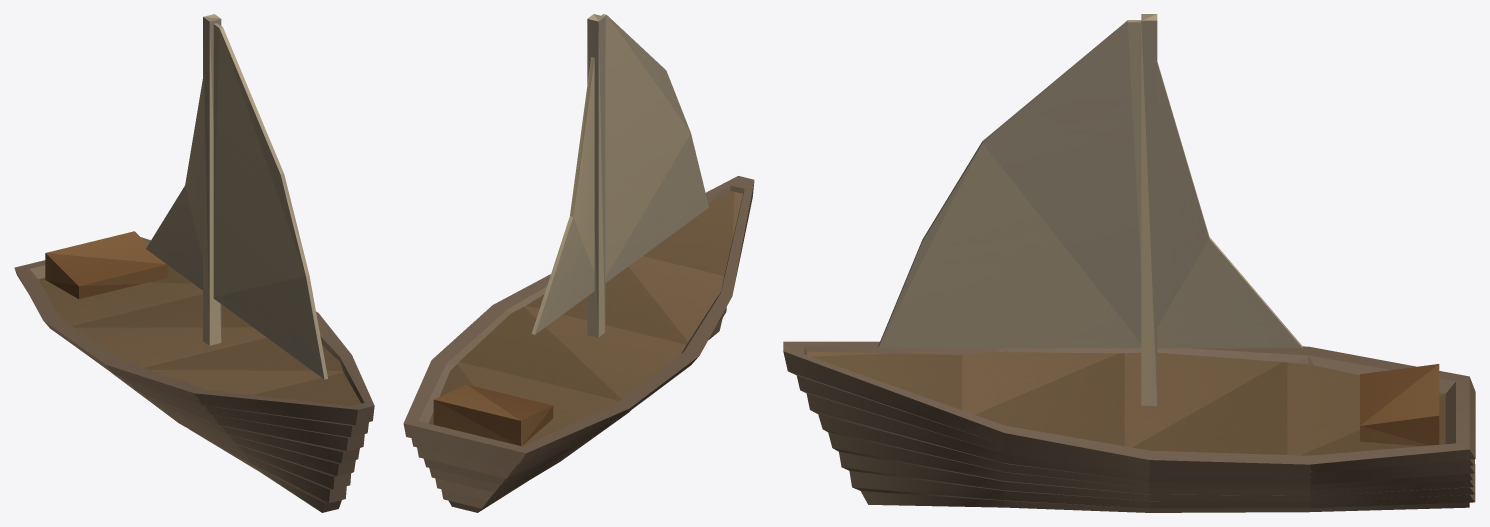
The model's file is Boat_2.fbx.
3 views of the same model, side by side, from view 1: azimuth 30°, elevation 25°; view 2: azimuth 150°, elevation 25°; view 3: azimuth 270°, elevation 25° (orthographic). The views are drawn at different scales.
Parts seen in each view (by area): view 1: polySurface183; view 2: polySurface183; view 3: polySurface183.
Boxes of the visible parts, x1=… form: polySurface183: x1=14, y1=14, x2=374, y2=512; polySurface183: x1=403, y1=14, x2=754, y2=512; polySurface183: x1=783, y1=14, x2=1475, y2=512.
Bounding box in the file's own units: 546 × 998 × 1297.
